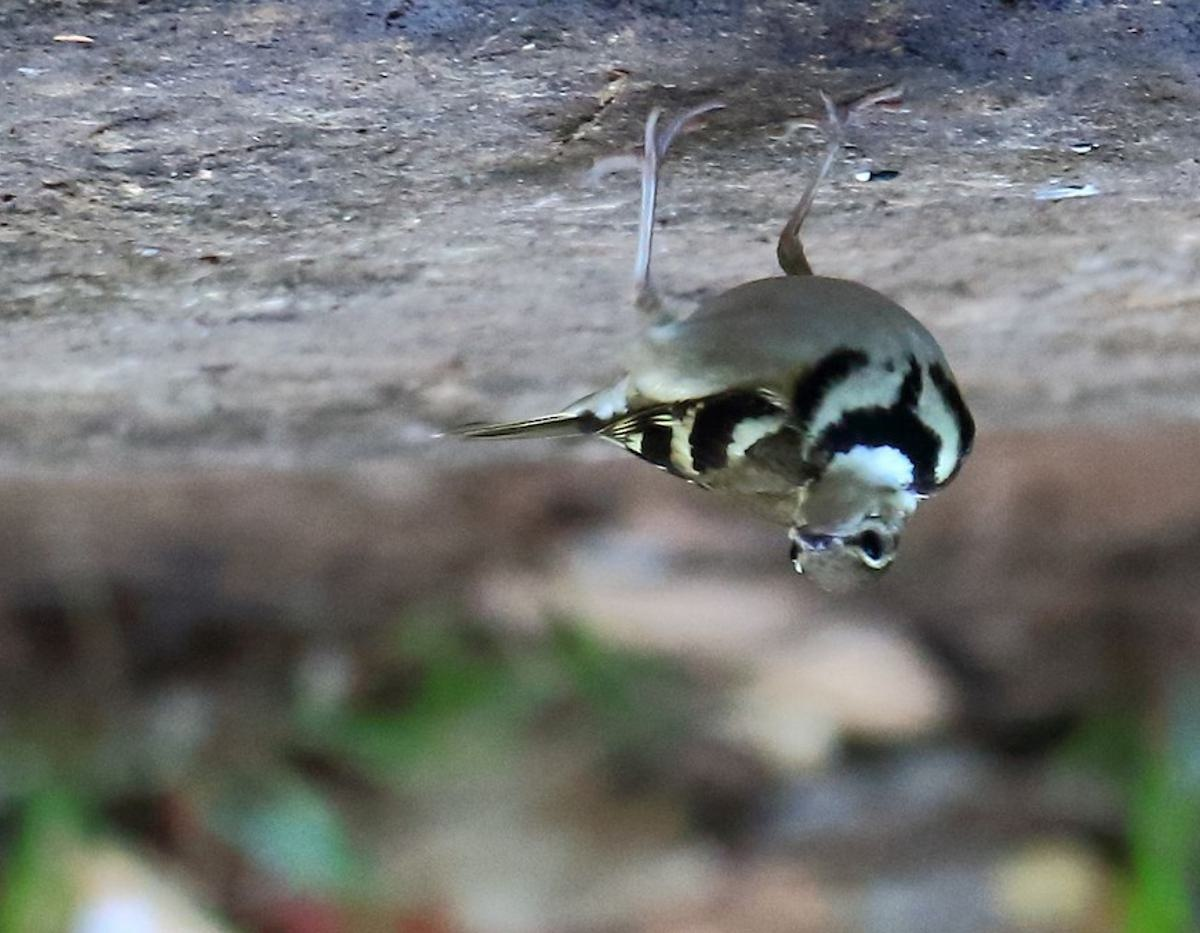wagtail: (528, 195, 994, 595)
